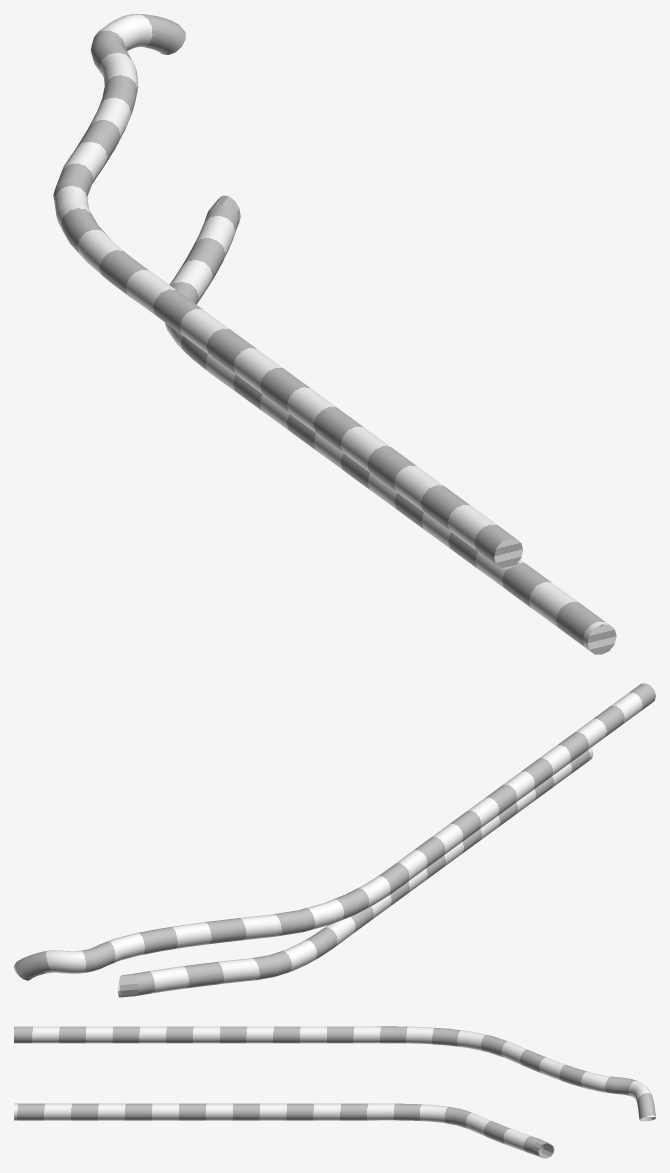
Rendered from Rail_Right_Long_Start.fbx.
3 views of the same model, one above another, from view 1: azimuth 30°, elevation 25°; view 2: azimuth 150°, elevation 25°; view 3: azimuth 270°, elevation 25° (orthographic). The views are drawn at different scales.
Parts seen in each view (by area): view 1: Rail_Right_Long_Start; view 2: Rail_Right_Long_Start; view 3: Rail_Right_Long_Start.
Part boxes in pixels (left/top/right/bottom): Rail_Right_Long_Start: left=53, top=14, right=616, bottom=654; Rail_Right_Long_Start: left=14, top=683, right=655, bottom=997; Rail_Right_Long_Start: left=14, top=1026, right=655, bottom=1158.
Bounding box in the file's own units: 87.76 × 303 × 36.23.
Materials: 1 (1 with a texture image).
